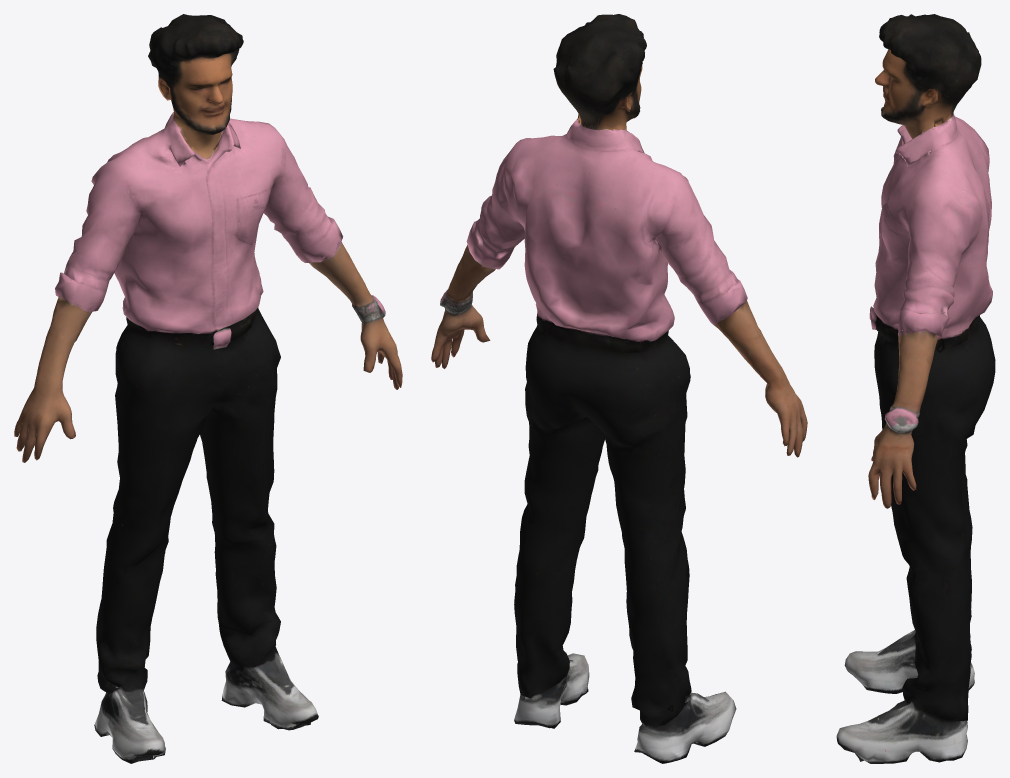
The model's file is arabi.glb.
3 views of the same model, side by side, from view 1: azimuth 30°, elevation 25°; view 2: azimuth 150°, elevation 25°; view 3: azimuth 270°, elevation 25° (orthographic).
Parts seen in each view (by area): view 1: body; view 2: body; view 3: body.
Boxes of the visible parts, x1,y1,x2,y2 form: body: (14,14,402,763); body: (431,14,807,763); body: (836,14,995,763).
Size of the model in its own units: 0.9891 by 1.8 by 0.3679.
Materials: 1 (1 with a texture image).
